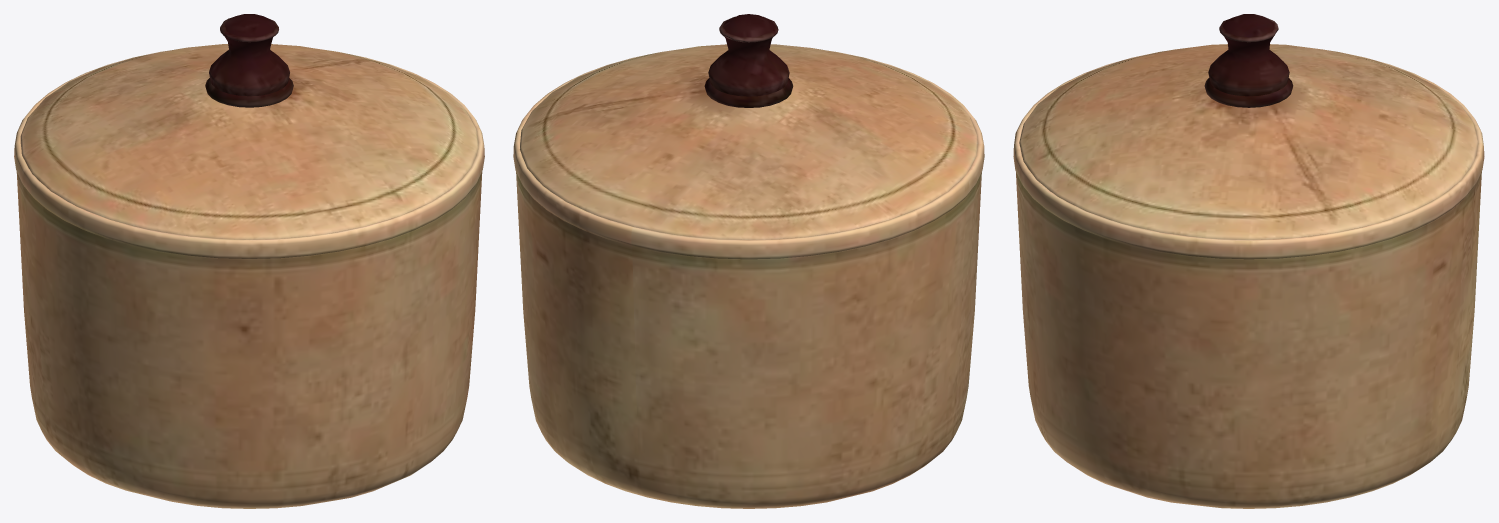
The model's file is brass_pot_01.glb.
The picture shows the model from 3 angles, left to right: view 1: azimuth 30°, elevation 25°; view 2: azimuth 150°, elevation 25°; view 3: azimuth 270°, elevation 25°; orthographic projection.
Visible parts, largest first — view 1: brass_pot_01; view 2: brass_pot_01; view 3: brass_pot_01.
Part boxes in pixels (x1=…): brass_pot_01: x1=14, y1=14, x2=484, y2=508; brass_pot_01: x1=513, y1=14, x2=984, y2=508; brass_pot_01: x1=1013, y1=14, x2=1484, y2=508.
Bounding box in the file's own units: 0.3019 × 0.2909 × 0.3017.
Materials: 1 (1 with a texture image).
